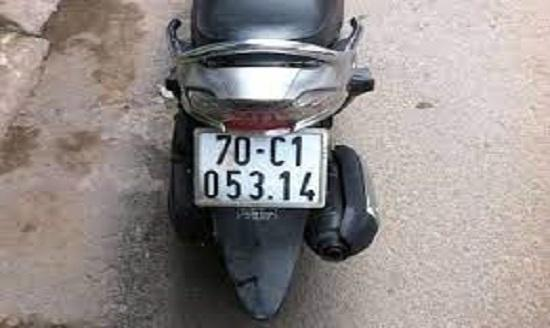numplate: (187, 124, 329, 208)
